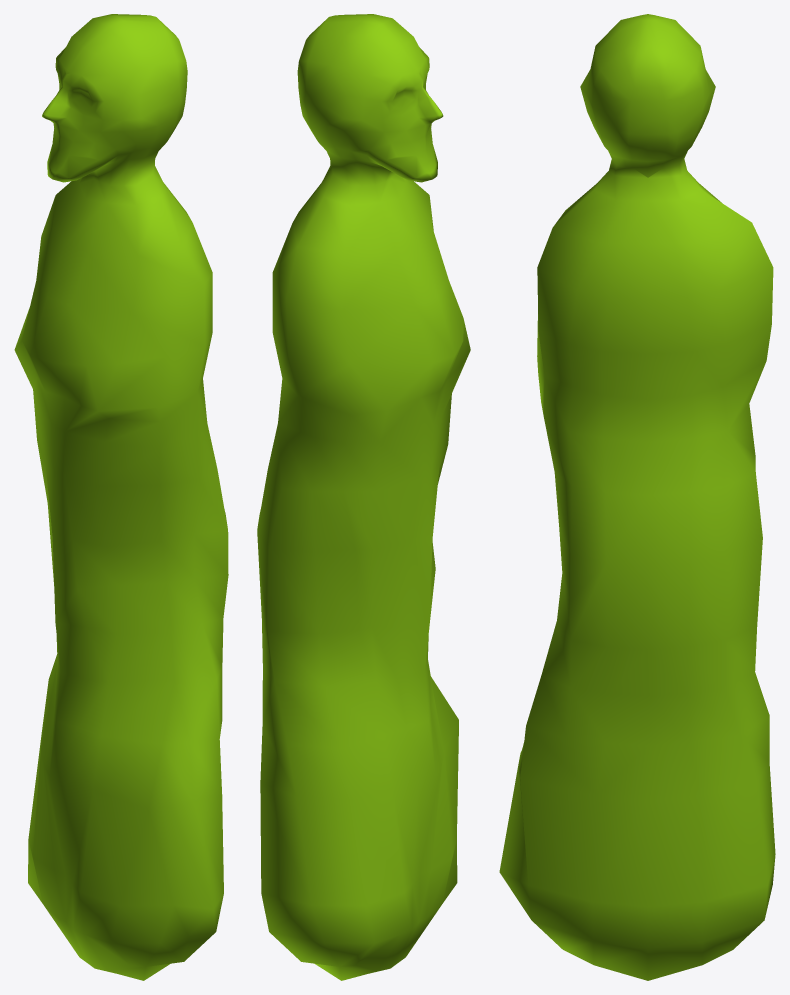
The model's file is Statue_03A_Lod0.fbx.
3 renders of one model, left to right at view 1: azimuth 30°, elevation 25°; view 2: azimuth 150°, elevation 25°; view 3: azimuth 270°, elevation 25°, orthographic.
Parts seen in each view (by area): view 1: Statue_03A_Lod0; view 2: Statue_03A_Lod0; view 3: Statue_03A_Lod0.
Boxes of the visible parts, bbox=[...] form: Statue_03A_Lod0: bbox=[14, 14, 228, 980]; Statue_03A_Lod0: bbox=[257, 14, 470, 980]; Statue_03A_Lod0: bbox=[499, 14, 775, 980].
Size of the model in its own units: 44.46 by 227 by 59.52.
